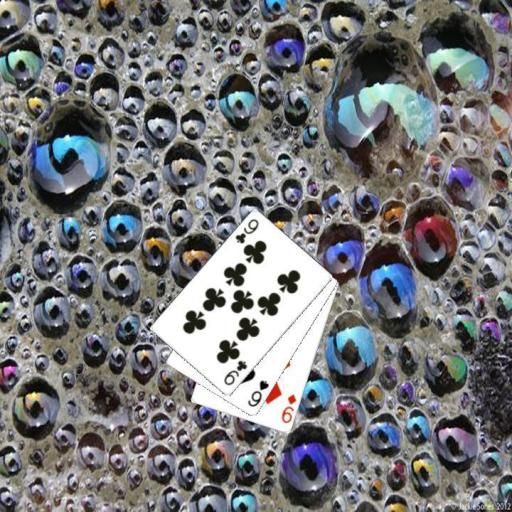card-corner: (220, 358, 249, 388), (232, 216, 260, 246), (245, 377, 270, 409), (278, 391, 298, 425)
